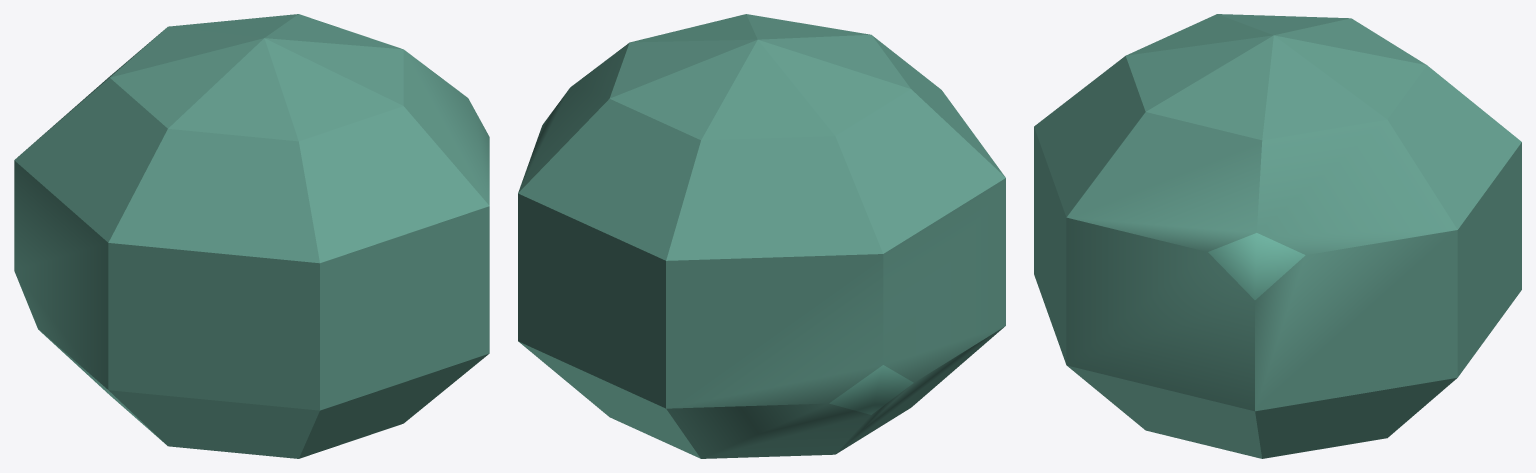
3 renders of one model, left to right at view 1: azimuth 30°, elevation 25°; view 2: azimuth 150°, elevation 25°; view 3: azimuth 270°, elevation 25°, orthographic.
Visible parts, largest first — view 1: Sphere_4; view 2: Sphere_4; view 3: Sphere_4.
Boxes of the visible parts, box(x1,y1,x2,y2) form: Sphere_4: box(14, 14, 489, 458); Sphere_4: box(518, 14, 1005, 458); Sphere_4: box(1034, 14, 1521, 458).
Bounding box in the file's own units: 0.706 × 0.5768 × 0.712.
1 material, 1 textured.
